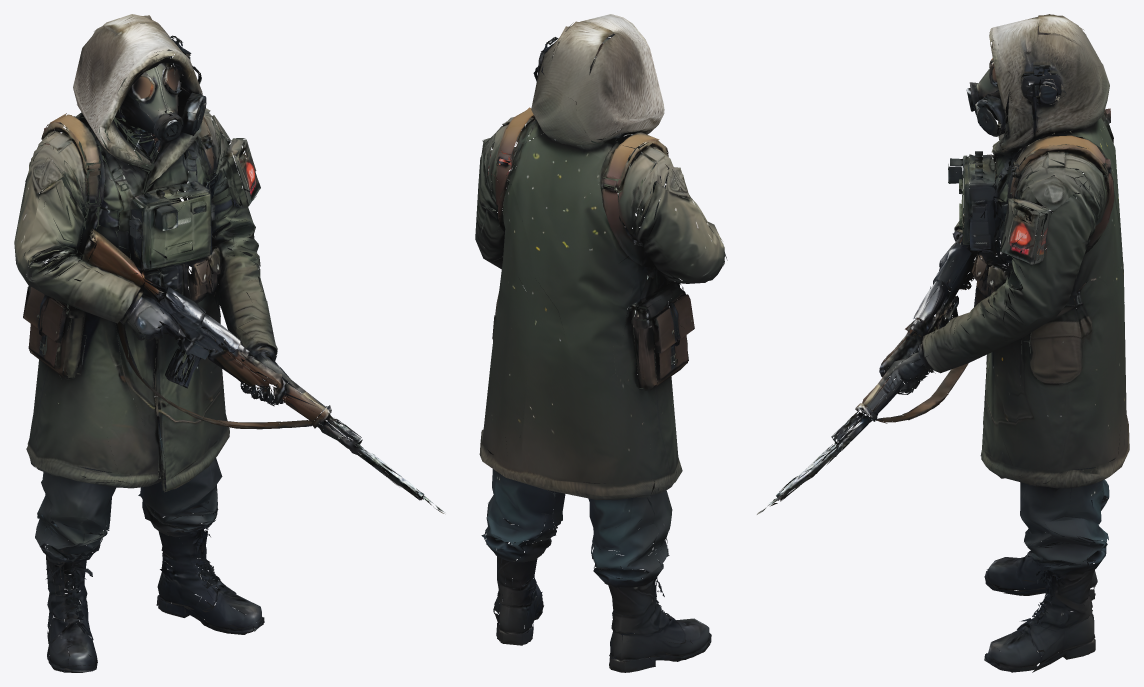
Rendered from char_player_survivor_alt_lod1.glb.
The picture shows the model from 3 angles, left to right: view 1: azimuth 30°, elevation 25°; view 2: azimuth 150°, elevation 25°; view 3: azimuth 270°, elevation 25°; orthographic projection. The views are drawn at different scales.
Parts seen in each view (by area): view 1: char_player_survivor_alt_lod1; view 2: char_player_survivor_alt_lod1; view 3: char_player_survivor_alt_lod1.
Boxes of the visible parts, left/top/right/bottom form: char_player_survivor_alt_lod1: left=14, top=14, right=445, bottom=672; char_player_survivor_alt_lod1: left=475, top=14, right=727, bottom=672; char_player_survivor_alt_lod1: left=757, top=14, right=1129, bottom=672.
Size of the model in its own units: 0.8919 by 1.83 by 1.03.
1 material, 1 textured.
